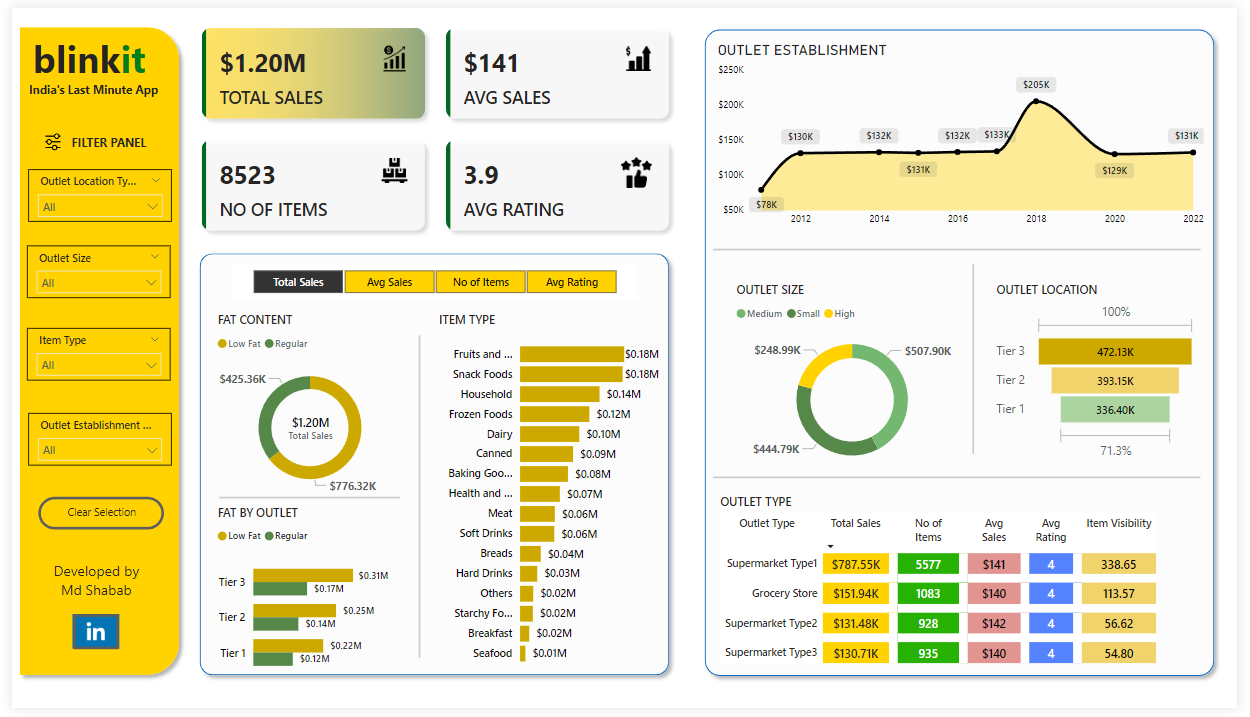

The dashboard page shown, as its layout file describes it:
{"tool":"powerbi","page":{"name":"Page 1","canvas":[1400,800],"ordinal":0},"visuals":[{"type":"shape","box":[0,13.3,200,758.3],"z":0},{"type":"textbox","box":[19.1,22.7,161.8,80.9],"z":1000},{"type":"textbox","box":[13.6,79.1,167.3,31.8],"z":2000},{"type":"cardVisual","fields":{"Data":["BlinkIT Grocery Data.Total Sales","BlinkIT Grocery Data.Avg Sales","BlinkIT Grocery Data.No of Items","BlinkIT Grocery Data.Avg Rating"]},"box":[200,5.6,568.3,266.1],"z":3000},{"type":"shape","box":[206,272,554,500],"z":4000},{"type":"donutChart","title":"FAT CONTENT","fields":{"Y":["BlinkIT Grocery Data.Total Sales"],"Category":["BlinkIT Grocery Data.Item Fat Content"]},"box":[230,347.1,221.4,220],"z":5000},{"type":"slicer","fields":{"Values":["Metrics.Metrics"]},"box":[250,293.3,465,40],"z":6000},{"type":"cardVisual","fields":{"Data":["BlinkIT Grocery Data.Total Sales"]},"box":[287,447,108,64],"z":7000},{"type":"clusteredBarChart","title":"FAT BY OUTLET","fields":{"Y":["BlinkIT Grocery Data.Total Sales"],"Category":["BlinkIT Grocery Data.Outlet Location Type"],"Series":["BlinkIT Grocery Data.Item Fat Content"]},"box":[230,567.1,205.7,207.1],"z":8000},{"type":"shape","box":[237.8,542.2,206.7,33.3],"z":9000},{"type":"shape","box":[435.7,374.3,60,368.6],"z":10000},{"type":"barChart","title":"ITEM TYPE","fields":{"Y":["BlinkIT Grocery Data.Total Sales"],"Category":["BlinkIT Grocery Data.Item Type"]},"box":[482.9,347.1,261.4,414.3],"z":11000},{"type":"shape","box":[783.3,15,600,756.7],"z":12000},{"type":"lineChart","title":"OUTLET ESTABLISHMENT","fields":{"Category":["BlinkIT Grocery Data.Outlet Establishment Year"],"Y":["BlinkIT Grocery Data.Total Sales"]},"box":[801.4,37.1,565.7,221.4],"z":13000},{"type":"shape","box":[801.7,258.3,556.7,35],"z":14000},{"type":"donutChart","title":"OUTLET SIZE","fields":{"Y":["BlinkIT Grocery Data.Total Sales"],"Category":["BlinkIT Grocery Data.Outlet Size"]},"box":[823.3,313.3,275,225],"z":15000},{"type":"shape","box":[1068.3,293.3,60,216.7],"z":16000},{"type":"funnel","title":"OUTLET LOCATION","fields":{"Y":["Sum(BlinkIT Grocery Data.Sales)"],"Category":["BlinkIT Grocery Data.Outlet Location Type"]},"box":[1120,313.3,238.3,208.3],"z":17000},{"type":"shape","box":[801.7,521.7,556.7,30],"z":18000},{"type":"pivotTable","title":"OUTLET TYPE","fields":{"Values":["BlinkIT Grocery Data.Total Sales","BlinkIT Grocery Data.No of Items","BlinkIT Grocery Data.Avg Sales","BlinkIT Grocery Data.Avg Rating","Sum(BlinkIT Grocery Data.Item Visibility)"],"Rows":["BlinkIT Grocery Data.Outlet Type"]},"box":[804.3,554.3,555.7,201.4],"z":19000},{"type":"slicer","fields":{"Values":["BlinkIT Grocery Data.Outlet Location Type"]},"box":[18.6,184.3,164.3,60],"z":20000},{"type":"slicer","fields":{"Values":["BlinkIT Grocery Data.Outlet Size"]},"box":[17.1,271.4,164.3,60],"z":21000},{"type":"slicer","fields":{"Values":["BlinkIT Grocery Data.Item Type"]},"box":[17.1,365.7,164.3,60],"z":22000},{"type":"textbox","box":[40,561.2,125,31.2],"z":23000},{"type":"actionButton","box":[30,558.8,143.8,37.5],"z":24000},{"type":"textbox","box":[30,627.5,132.5,53.8],"z":25000},{"type":"slicer","fields":{"Values":["BlinkIT Grocery Data.Outlet Establishment Year"]},"box":[18.8,462.5,163.8,60],"z":26000},{"type":"image","box":[63.8,681.2,63.8,61.2],"z":27000},{"type":"actionButton","box":[69.3,692.1,52.1,40],"z":28000},{"type":"textbox","box":[63.3,139.3,110.7,28],"z":28001},{"type":"image","box":[30,138.7,34,28.7],"z":28002}]}

Visuals, with their boxes in screenshot pixels (x1, y1, x2, y2), scaled from the page's 1400x800 canvas onto the 1250x717 screenshot:
shape: 0,12,179,692
textbox: 17,20,162,93
textbox: 12,71,162,99
cardVisual - BlinkIT Grocery Data.Total Sales x BlinkIT Grocery Data.Avg Sales: 179,5,686,244
shape: 184,244,679,692
"FAT CONTENT" donutChart: 205,311,403,508
slicer - Metrics.Metrics: 223,263,638,299
cardVisual - BlinkIT Grocery Data.Total Sales: 256,401,353,458
"FAT BY OUTLET" clusteredBarChart: 205,508,389,694
shape: 212,486,397,516
shape: 389,335,443,666
"ITEM TYPE" barChart: 431,311,665,682
shape: 699,13,1235,692
"OUTLET ESTABLISHMENT" lineChart: 716,33,1221,232
shape: 716,232,1213,263
"OUTLET SIZE" donutChart: 735,281,981,482
shape: 954,263,1007,457
"OUTLET LOCATION" funnel: 1000,281,1213,467
shape: 716,468,1213,494
"OUTLET TYPE" pivotTable: 718,497,1214,677
slicer - BlinkIT Grocery Data.Outlet Location Type: 17,165,163,219
slicer - BlinkIT Grocery Data.Outlet Size: 15,243,162,297
slicer - BlinkIT Grocery Data.Item Type: 15,328,162,382
textbox: 36,503,147,531
actionButton: 27,501,155,534
textbox: 27,562,145,611
slicer - BlinkIT Grocery Data.Outlet Establishment Year: 17,415,163,468
image: 57,611,114,665
actionButton: 62,620,108,656
textbox: 57,125,155,150
image: 27,124,57,150
